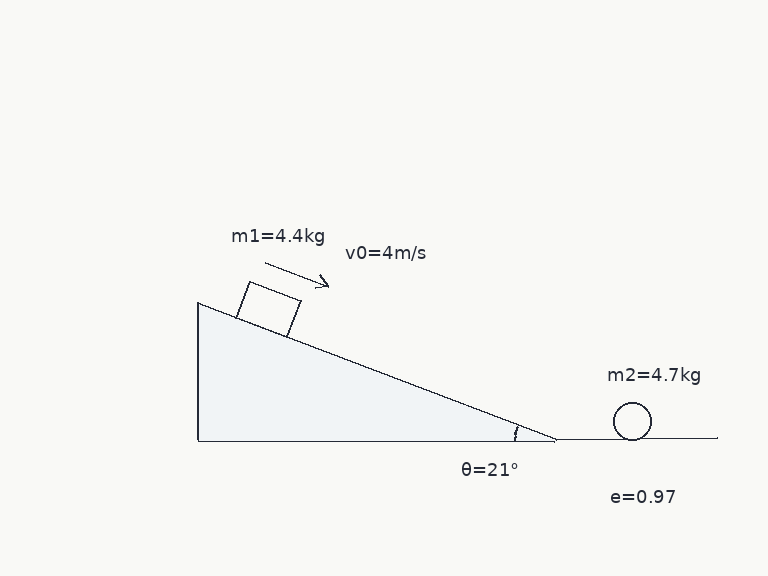ball: (611, 400, 653, 442)
block: (234, 279, 302, 339)
ramp: (195, 301, 557, 442)
